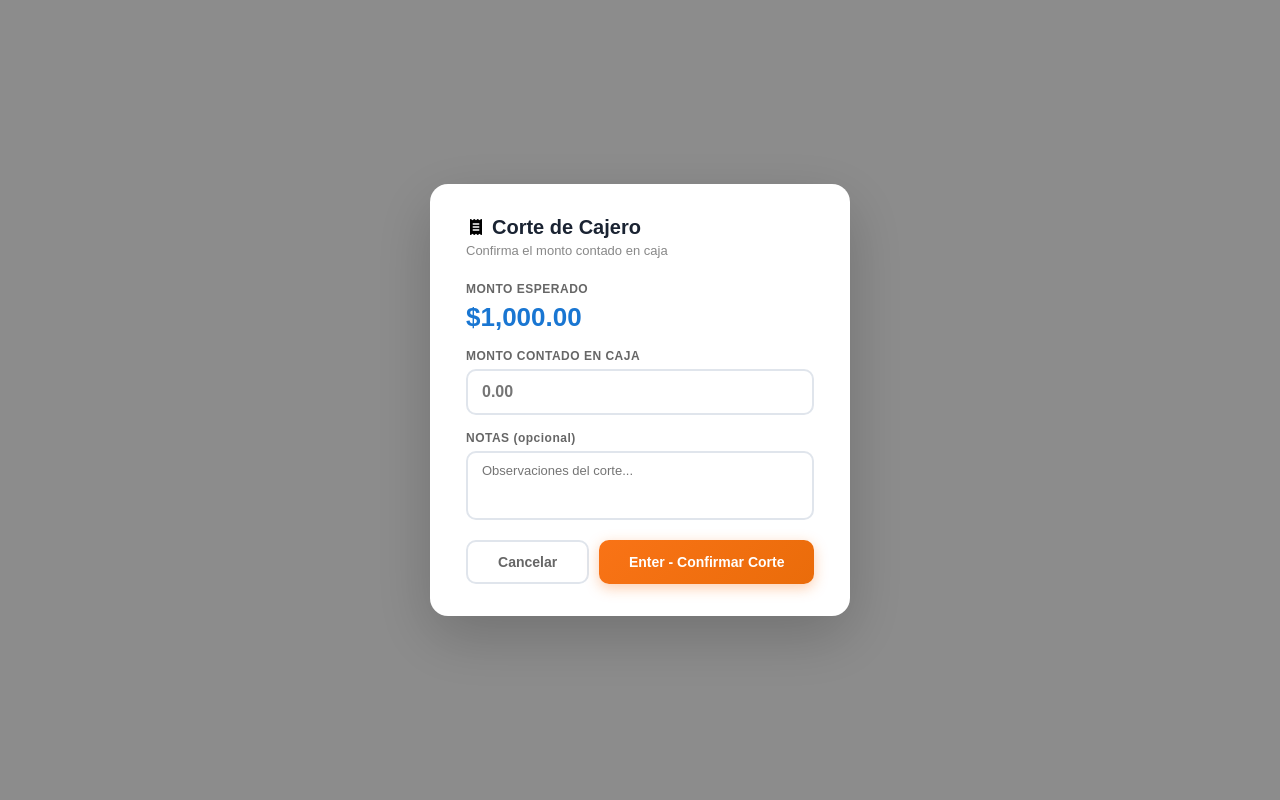
Test: CashCutModal › bloquea la confirmacion con alerta si hay descuadre y faltan notas
This screenshot has width=1280, height=800.
Type "950" into the number field with placeholder "0.00".
click(640, 392); type("950")  # box top-left (466, 369), bottom-right (814, 415)
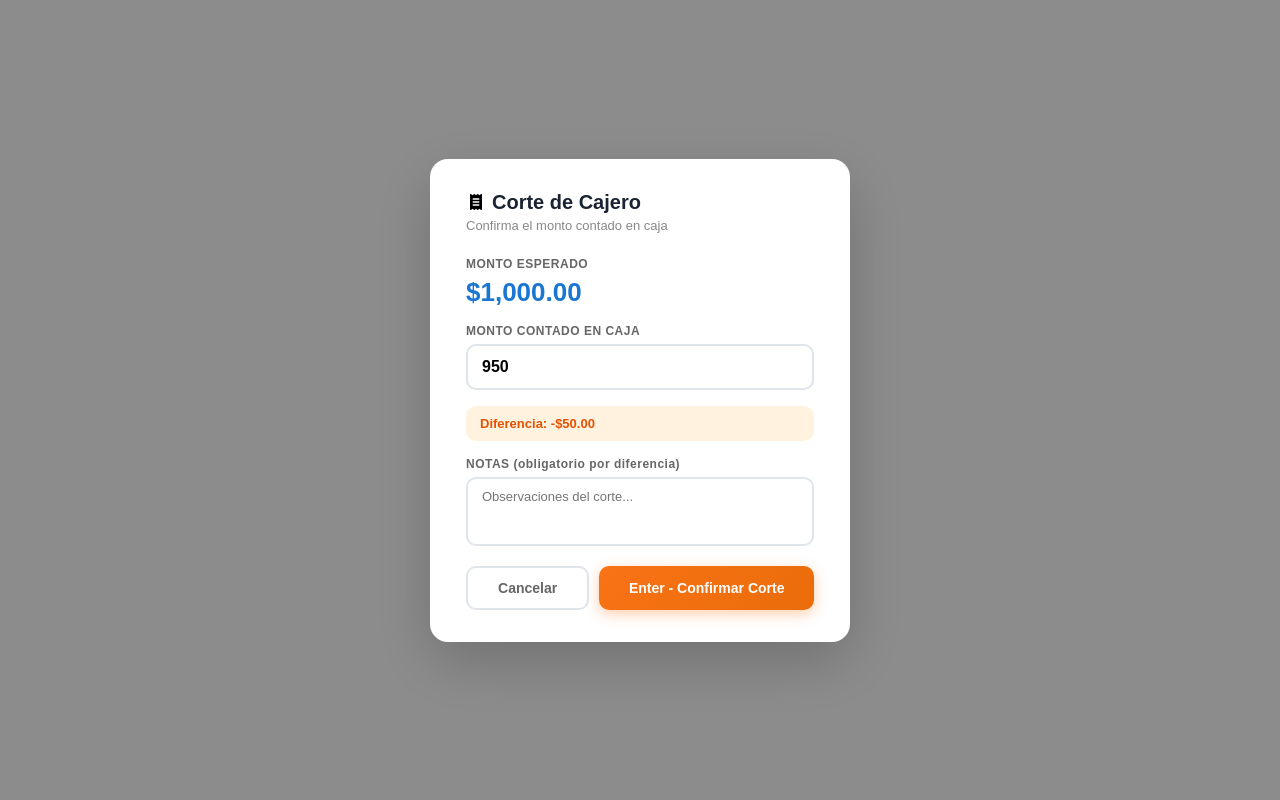
Expected: the text "NOTAS (obligatorio por diferencia)" is shown, top-left (466, 456), bottom-right (680, 470)
Click the button "Enter - Confirmar Corte".
click(707, 588)  # box top-left (599, 566), bottom-right (814, 610)
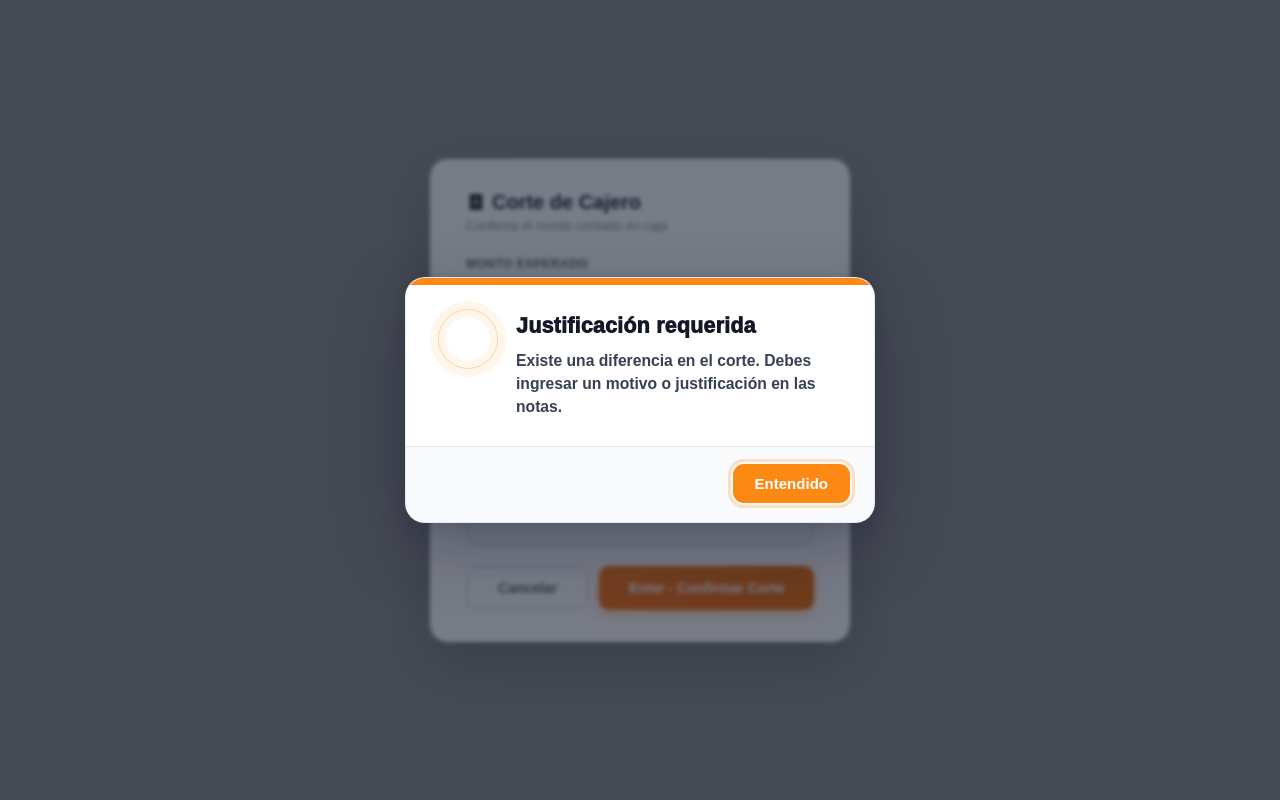
Expected: the heading "Justificación requerida" is shown, top-left (516, 314), bottom-right (756, 338)
Expected: the text "Existe una diferencia en el corte. Debes ingresar un motivo o justificación en las notas." is shown, top-left (516, 352), bottom-right (816, 415)
